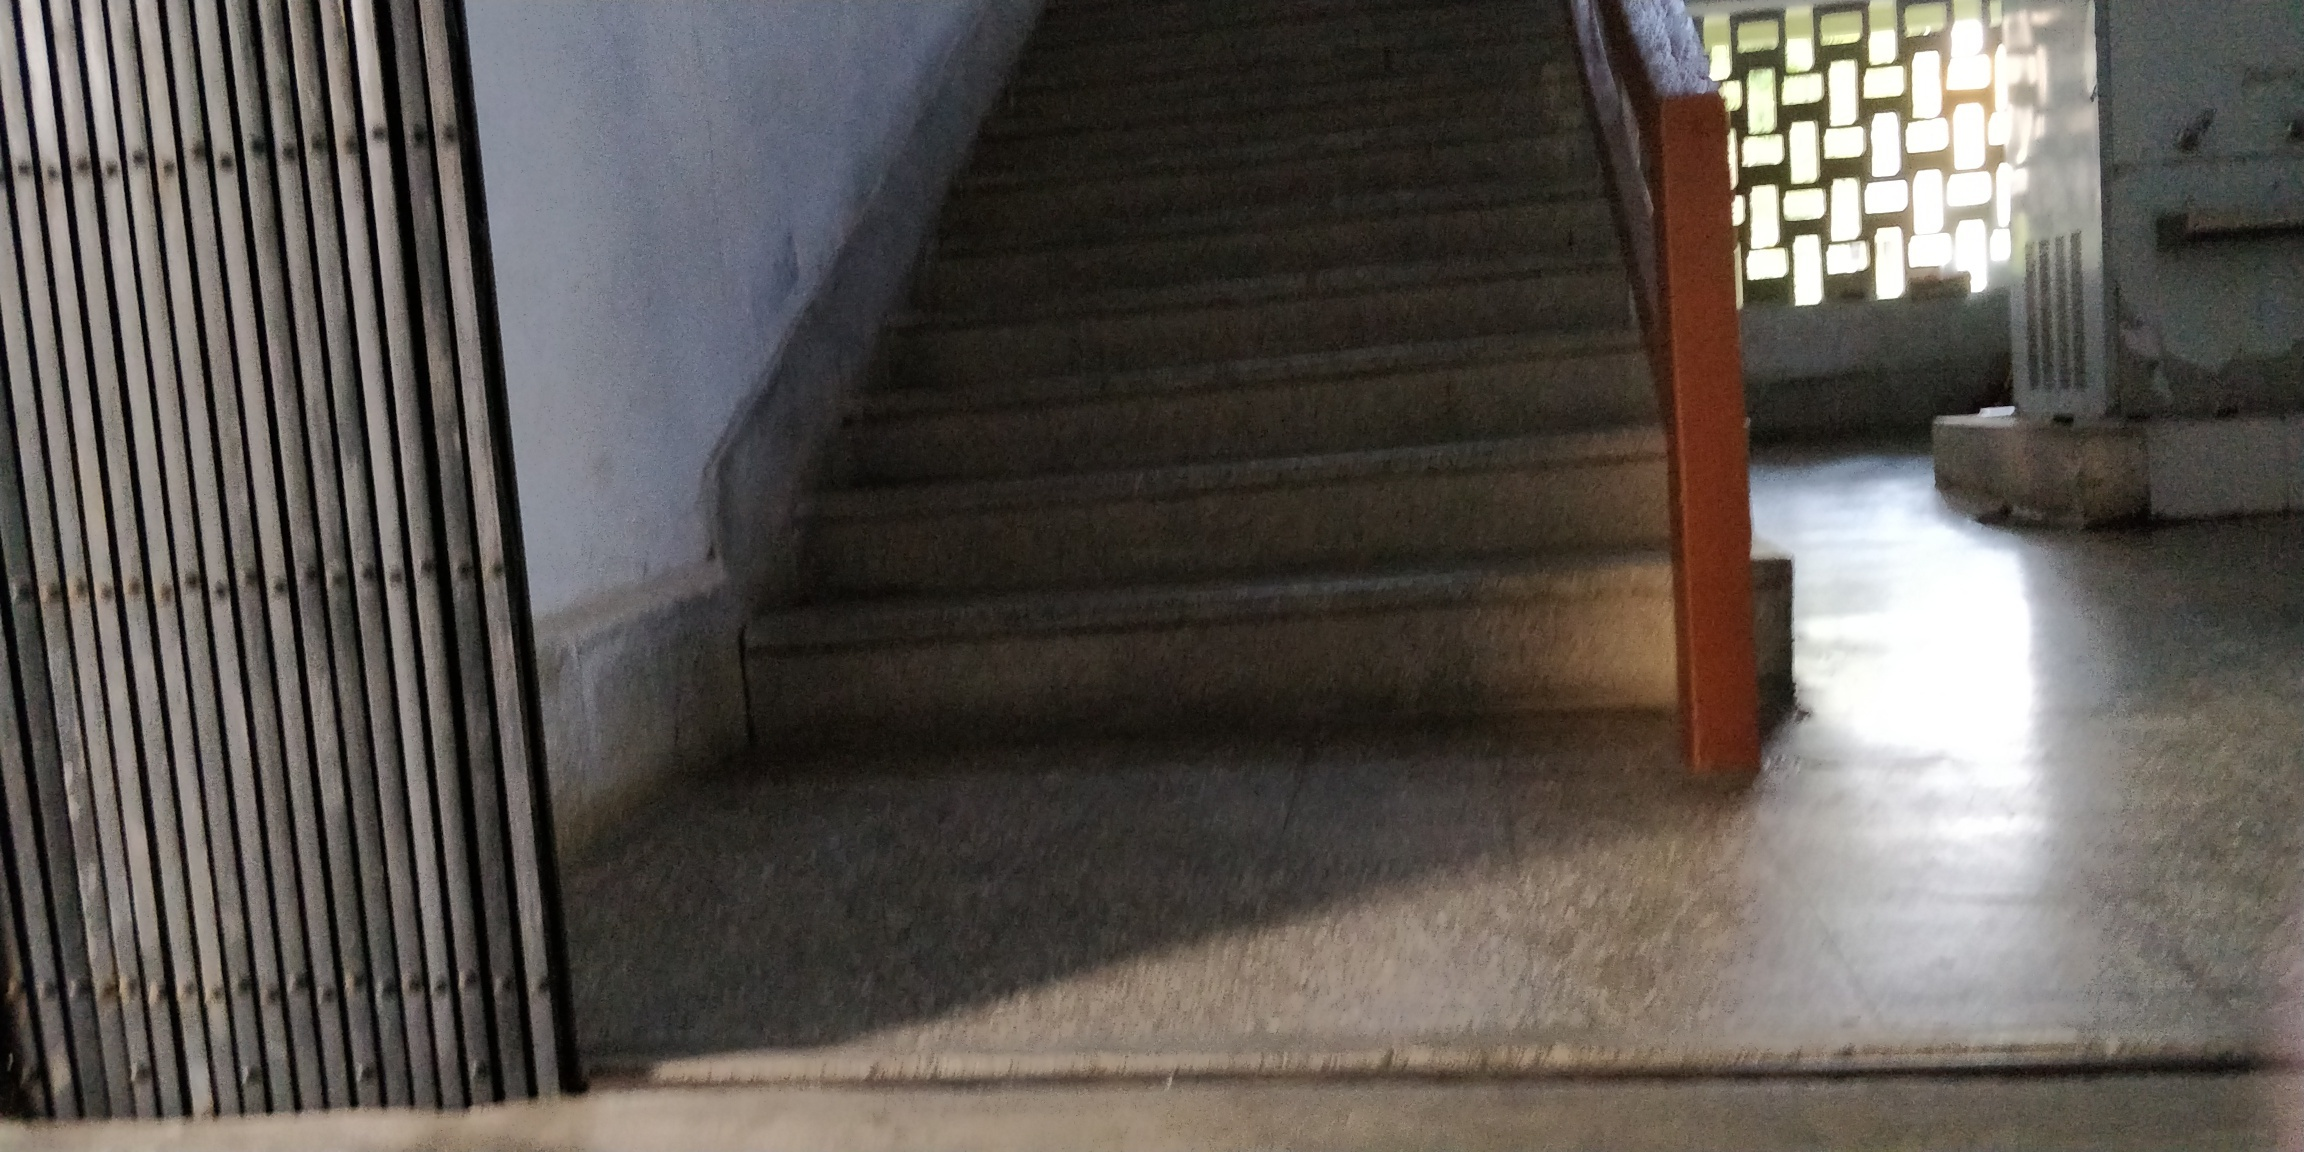stairs_up: (741, 29, 1677, 752)
